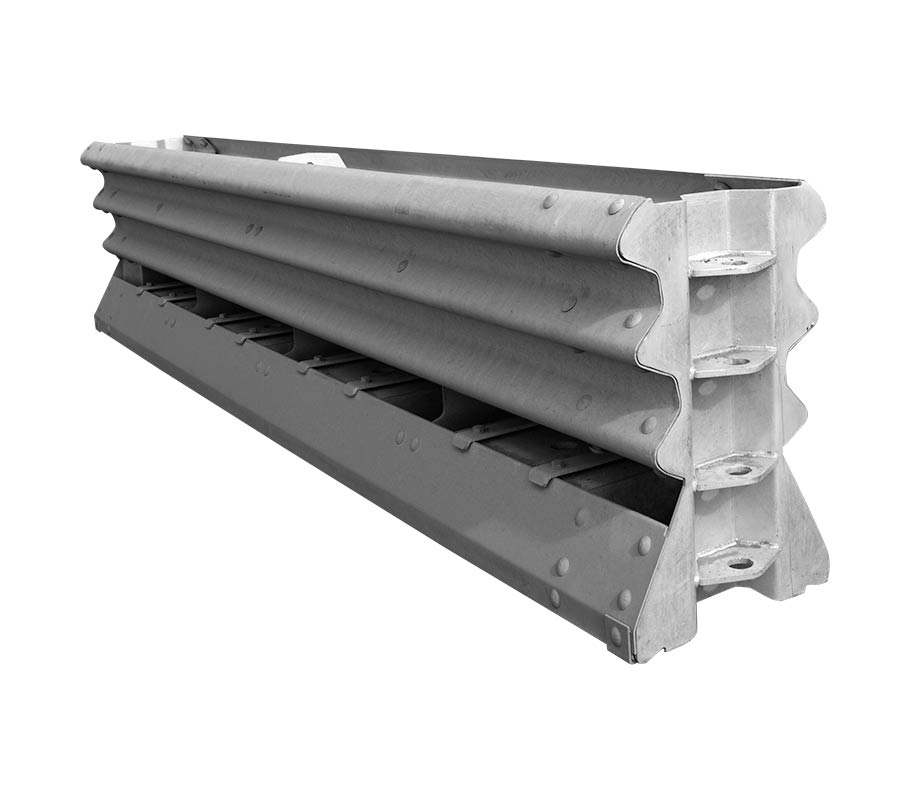Barrier: (30, 130, 846, 672)
